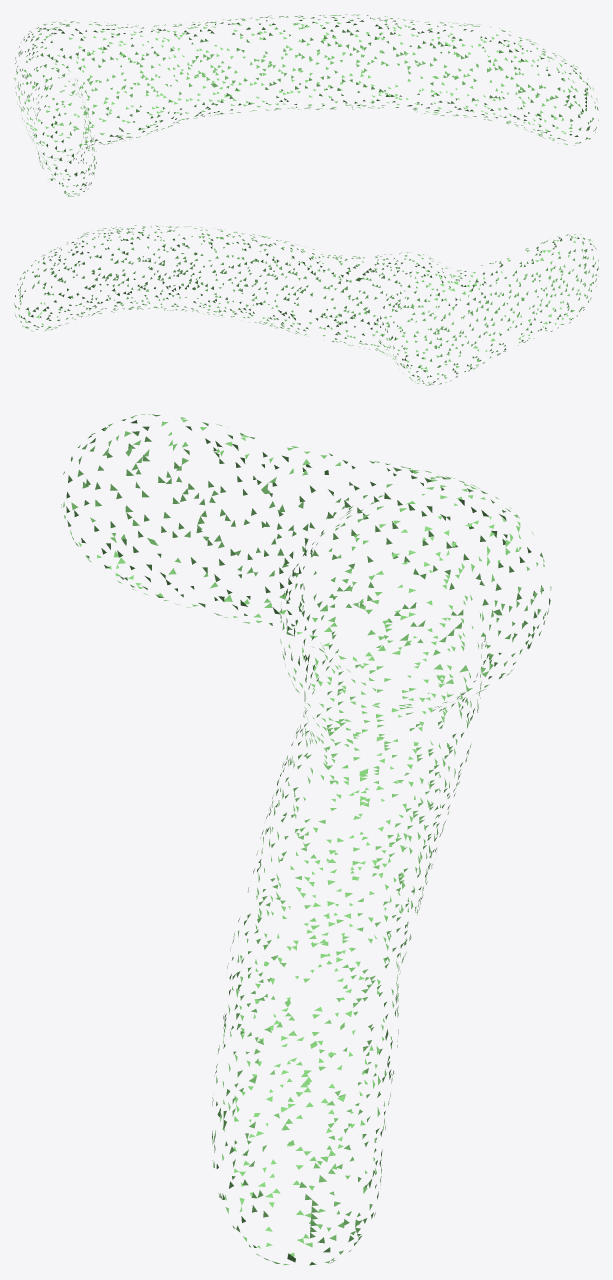
File: morph_016.glb
3 views of the same model, one above another, from view 1: azimuth 30°, elevation 25°; view 2: azimuth 150°, elevation 25°; view 3: azimuth 270°, elevation 25° (orthographic). The views are drawn at different scales.
Bounding box in the file's own units: 112 × 37.92 × 45.6.
